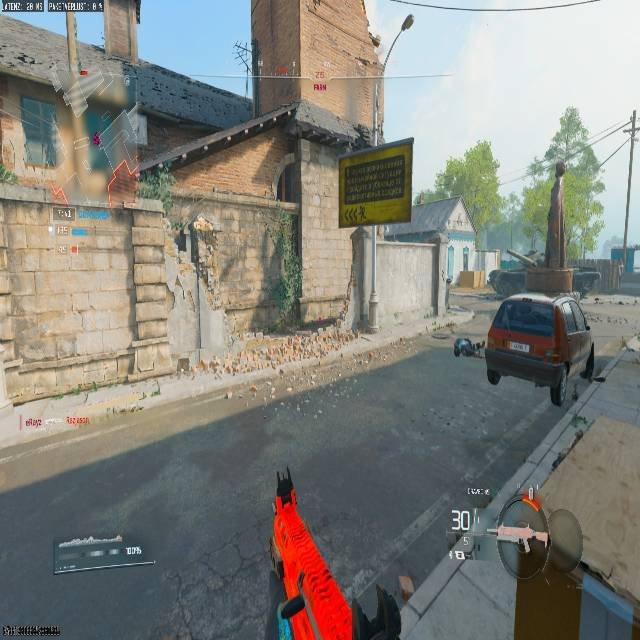player: (93, 129, 101, 146)
